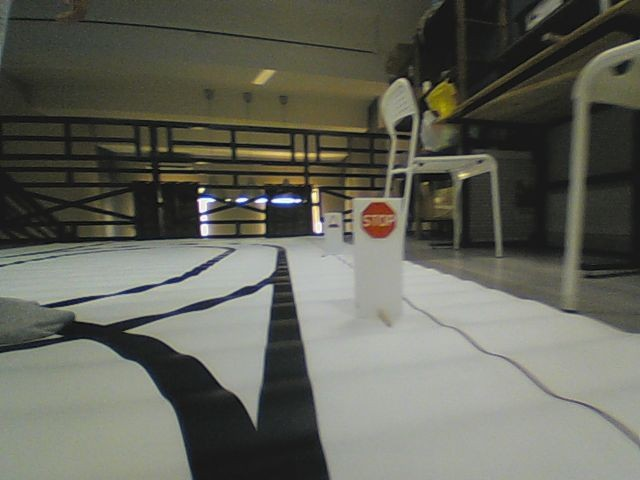Stop: (360, 201, 397, 237)
